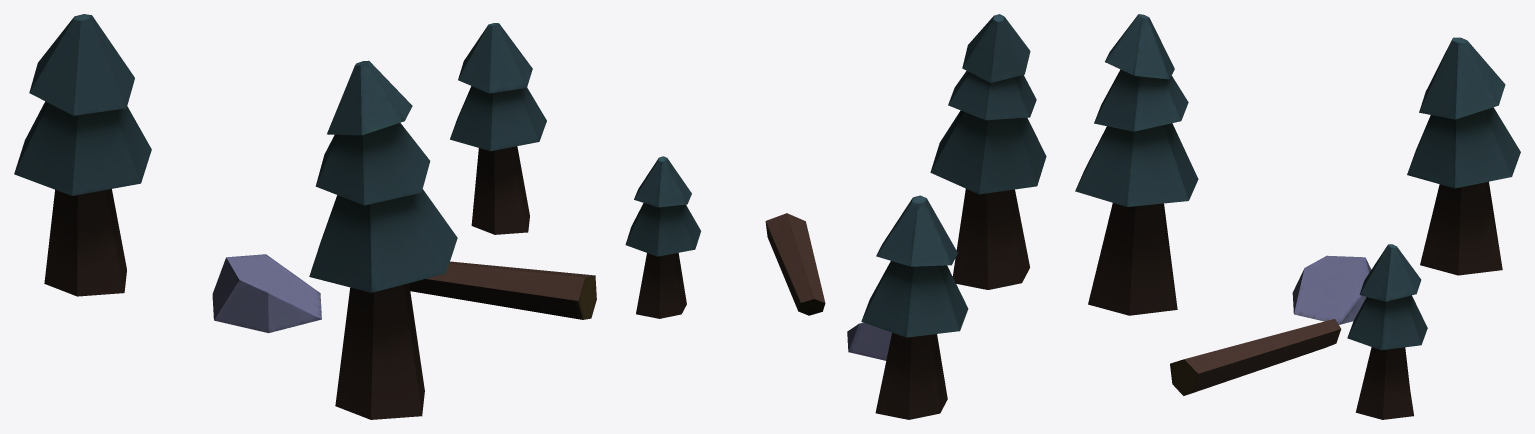
Rendered from tile_wood_6_lod2.fbx.
The picture shows the model from 3 angles, left to right: view 1: azimuth 30°, elevation 25°; view 2: azimuth 150°, elevation 25°; view 3: azimuth 270°, elevation 25°; orthographic projection. The views are drawn at different scales.
Visible parts, largest first — view 1: wood_6_lod2; view 2: wood_6_lod2; view 3: wood_6_lod2.
Part boxes in pixels (x1,y1,x2,y2): wood_6_lod2: [14, 14, 596, 419]; wood_6_lod2: [625, 14, 1046, 419]; wood_6_lod2: [1075, 14, 1520, 419].
Size of the model in its own units: 0.0466 by 0.0314 by 0.0455.
